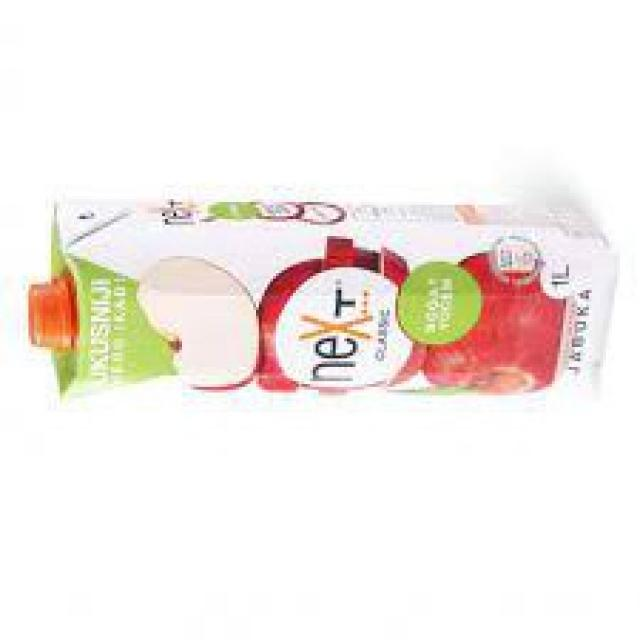non_white_jug: (27, 197, 621, 406)
